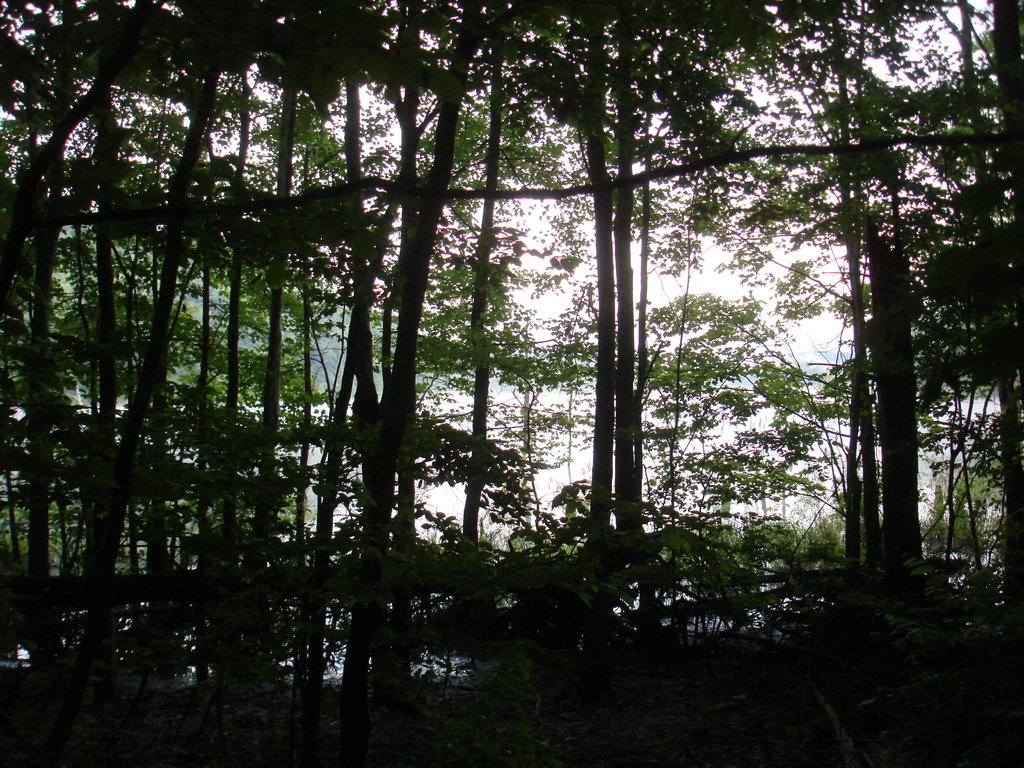Tree: (0, 0, 1023, 767), (418, 256, 590, 544)
